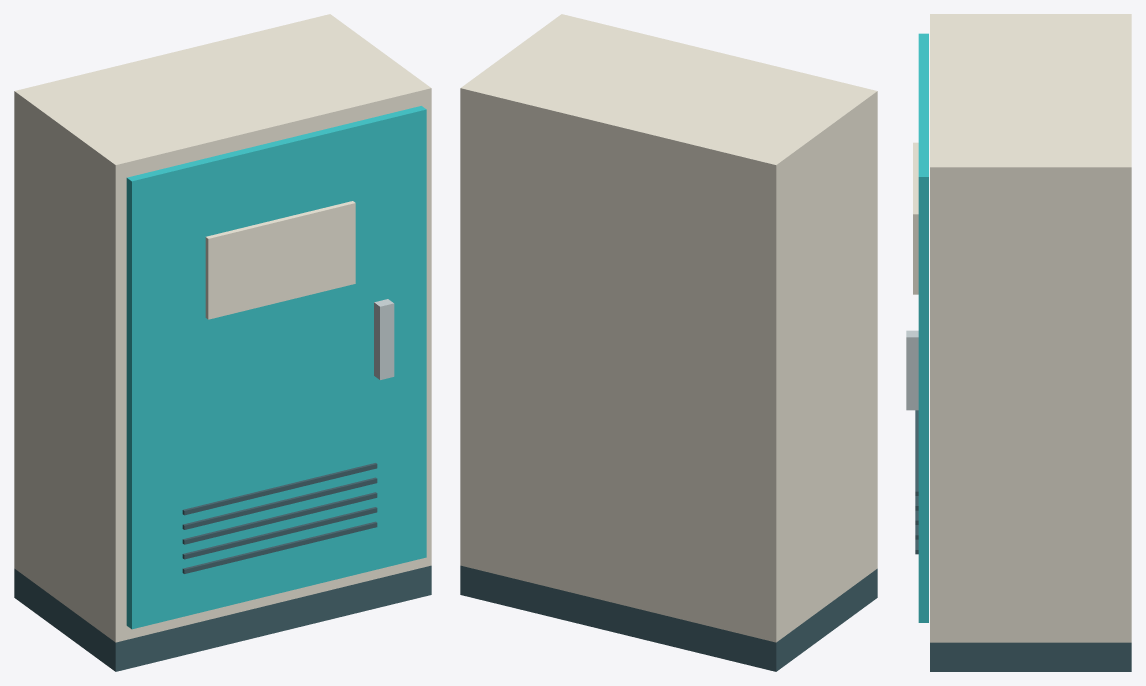
File: waterpark-and-pool-operations-waterpark-and-pool-opera-4eb4885b__28977.glb
3 renders of one model, left to right at view 1: azimuth 30°, elevation 25°; view 2: azimuth 150°, elevation 25°; view 3: azimuth 270°, elevation 25°, orthographic.
Parts seen in each view (by area): view 1: waterpark-and-pool-operations-chemical-dosing-cabinet; view 2: waterpark-and-pool-operations-chemical-dosing-cabinet; view 3: waterpark-and-pool-operations-chemical-dosing-cabinet.
Part boxes in pixels (left/top/right/bottom): waterpark-and-pool-operations-chemical-dosing-cabinet: left=14, top=14, right=431, bottom=671; waterpark-and-pool-operations-chemical-dosing-cabinet: left=460, top=14, right=877, bottom=671; waterpark-and-pool-operations-chemical-dosing-cabinet: left=906, top=14, right=1131, bottom=671.
Size of the model in its own units: 0.9 by 1.38 by 0.558.
